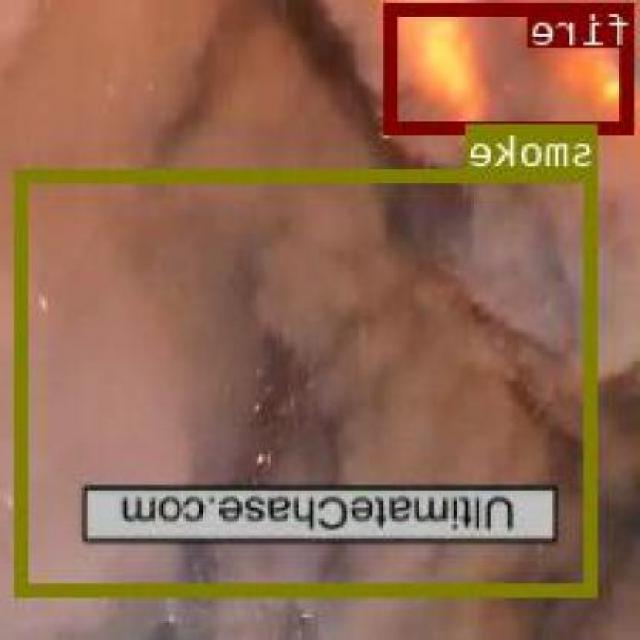fire: (387, 1, 636, 130)
smoke: (19, 167, 598, 593)
